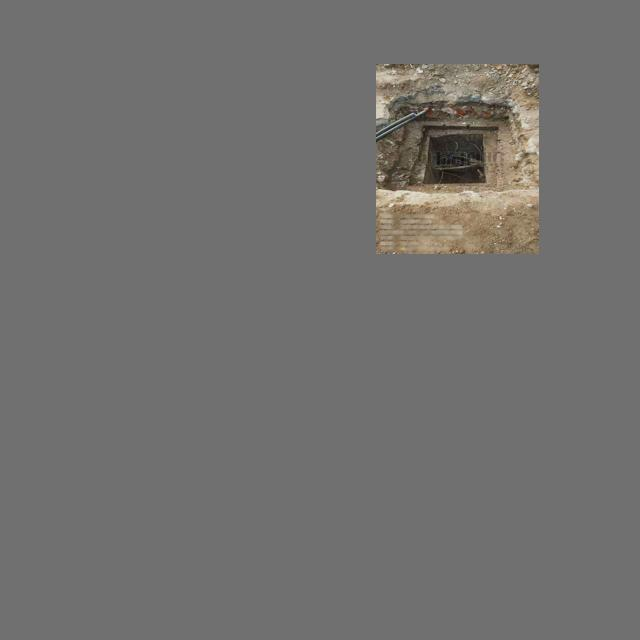lose: (421, 127, 487, 184)
